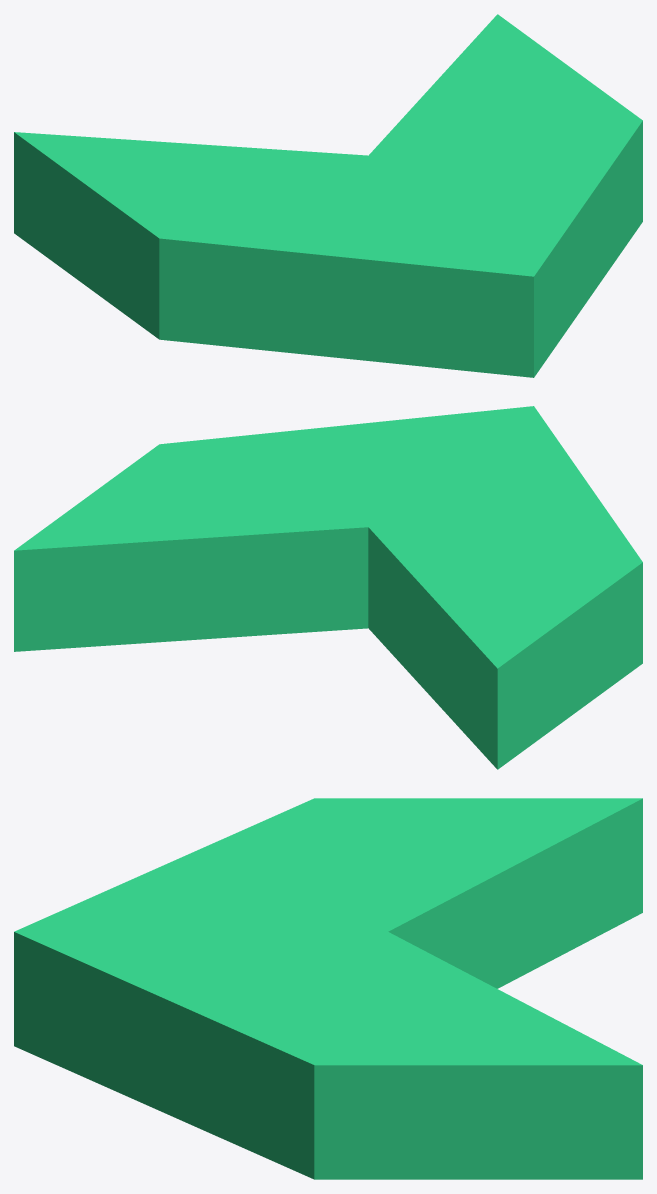
3 views of the same model, one above another, from view 1: azimuth 30°, elevation 25°; view 2: azimuth 150°, elevation 25°; view 3: azimuth 270°, elevation 25° (orthographic). The views are drawn at different scales.
Visible parts, largest first — view 1: pCube1; view 2: pCube1; view 3: pCube1.
Part boxes in pixels (box(x1,y1,x2,y2)): pCube1: box(14, 14, 642, 377); pCube1: box(14, 406, 642, 769); pCube1: box(14, 798, 642, 1179).
Size of the model in its own units: 0.451 by 0.0902 by 0.4493.
